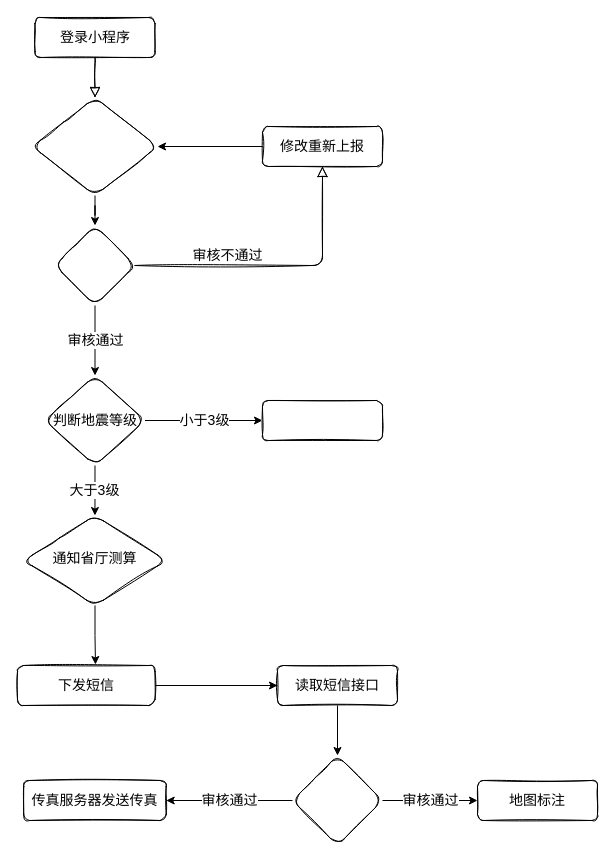
Image size: 615x863. Some labels were removed from this diagram. Each missing label, with the box of its shape:
上报地震信息: (32, 96, 158, 196)
审核: (54, 224, 135, 306)
自行处理: (262, 400, 382, 440)
领导审核: (292, 754, 382, 846)
